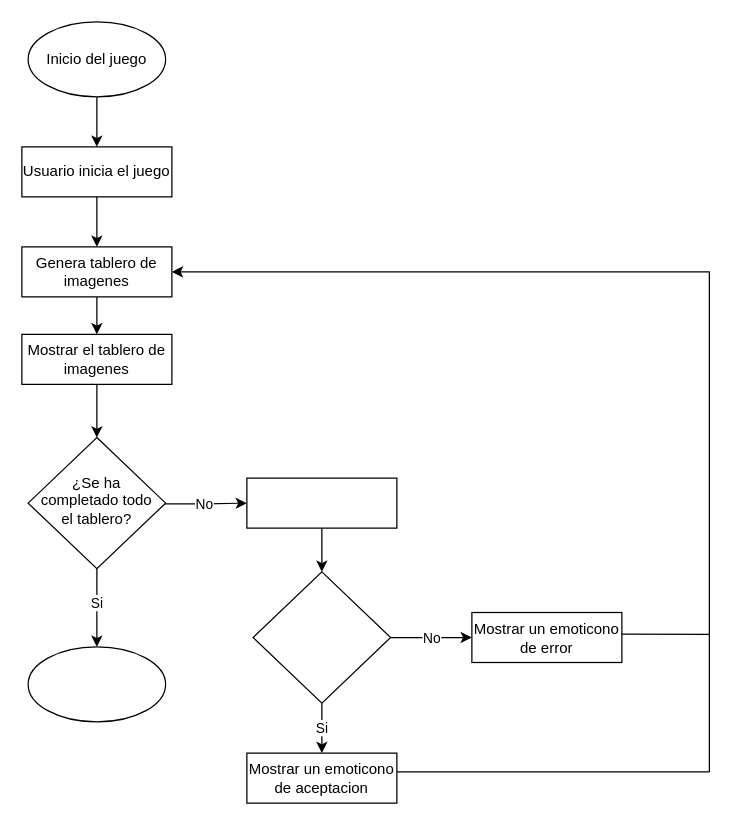
Some shapes in this 741 by 825 pixel diagram are drawn without their labels. Here are the shapes that lost their labels. From the top down, the box of each, then its label:
(246, 477, 397, 528): Usuario selecciona una imagen
(252, 571, 391, 703): ¿La imagen es correcta?
(27, 646, 166, 722): Fin
